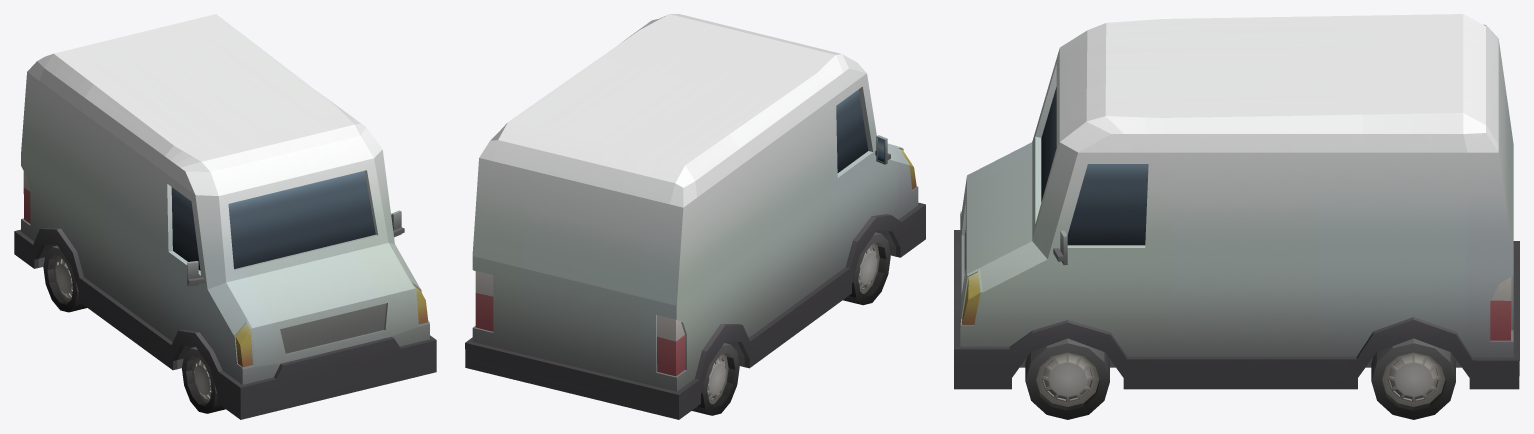
The model's file is Van_01_FBX.fbx.
3 views of the same model, side by side, from view 1: azimuth 30°, elevation 25°; view 2: azimuth 150°, elevation 25°; view 3: azimuth 270°, elevation 25° (orthographic). The views are drawn at different scales.
Parts seen in each view (by area): view 1: pCube145; view 2: pCube145; view 3: pCube145.
Boxes of the visible parts, bbox=[...] form: pCube145: bbox=[14, 14, 436, 419]; pCube145: bbox=[465, 14, 925, 419]; pCube145: bbox=[954, 14, 1519, 419].
Size of the model in its own units: 246 by 261 by 448.
